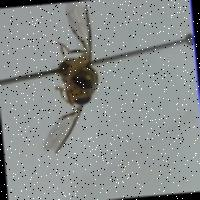Oriental-fruit-fly: (24, 0, 116, 165)
